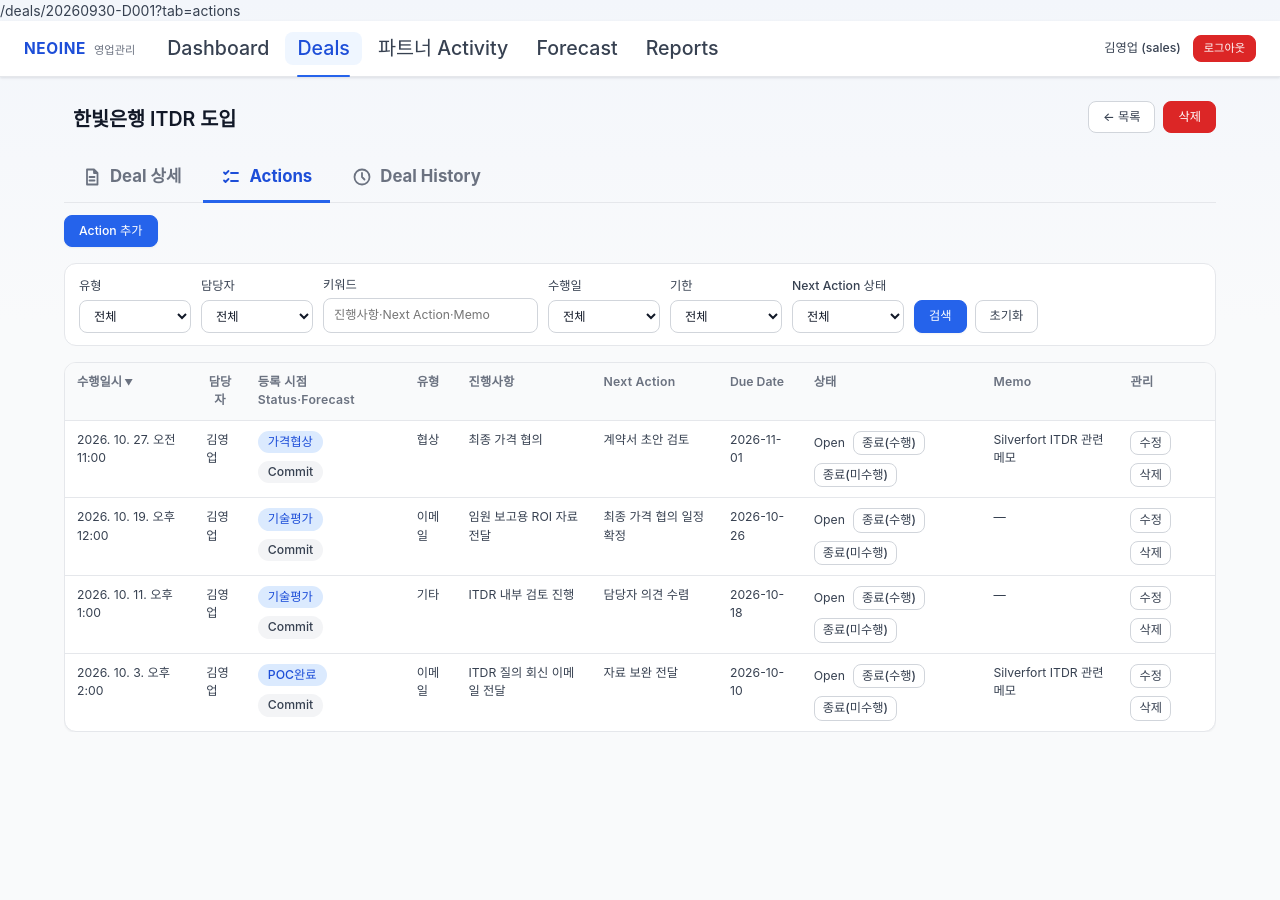
it: Action 등록 폼의 Status · Forecast · 유형 한 줄 (AC-13) › shows_status_forecast_and_type_in_one_row
Expected: the heading "한빛은행 ITDR 도입" is shown, [64, 101, 245, 138]
Step 1. Click the button "Action 추가" → (111, 231), box [64, 215, 158, 247]
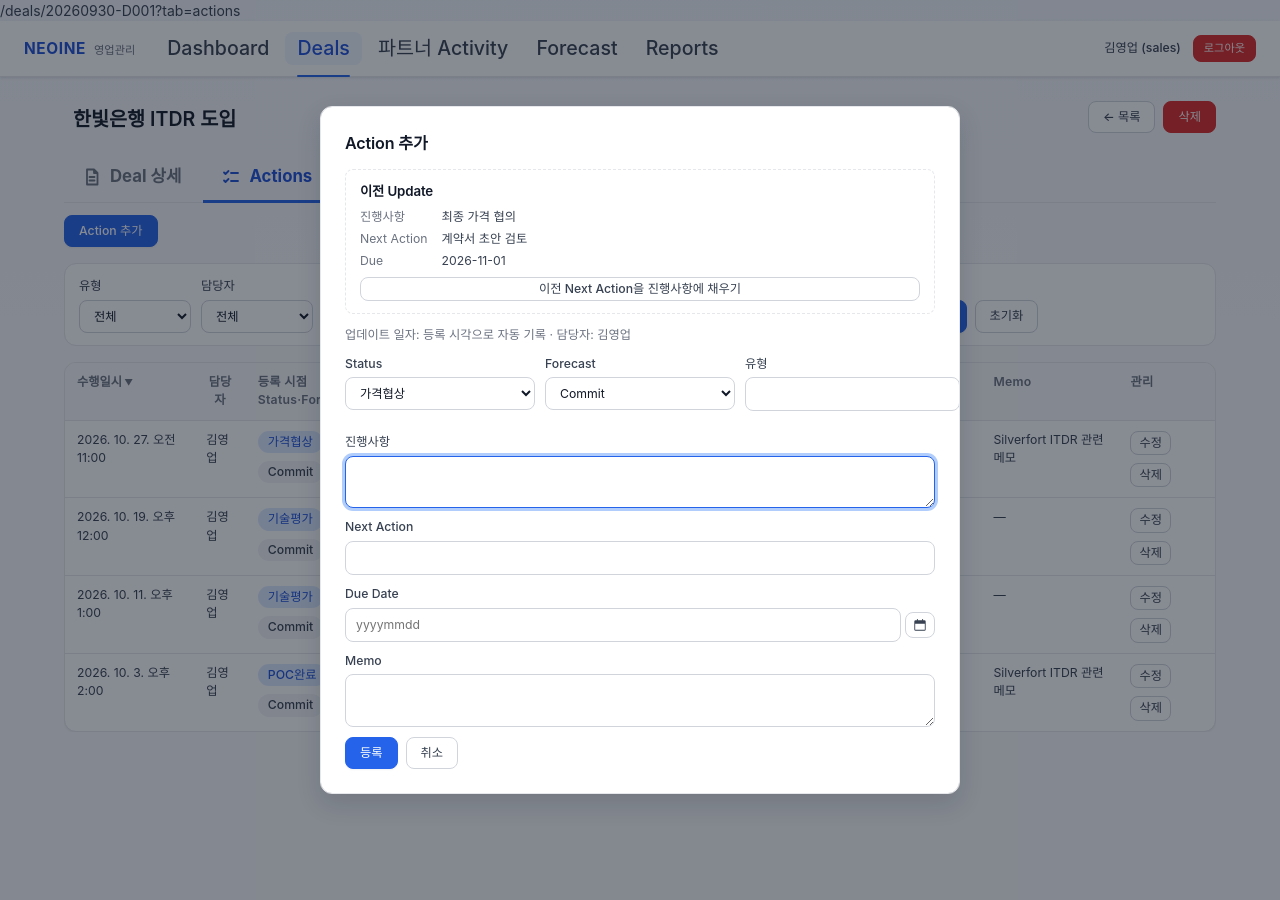
Expected: the dropdown labelled "Status" shows "가격협상", [345, 377, 535, 410]
Expected: the dropdown labelled "Forecast" shows "Commit", [545, 377, 735, 410]
